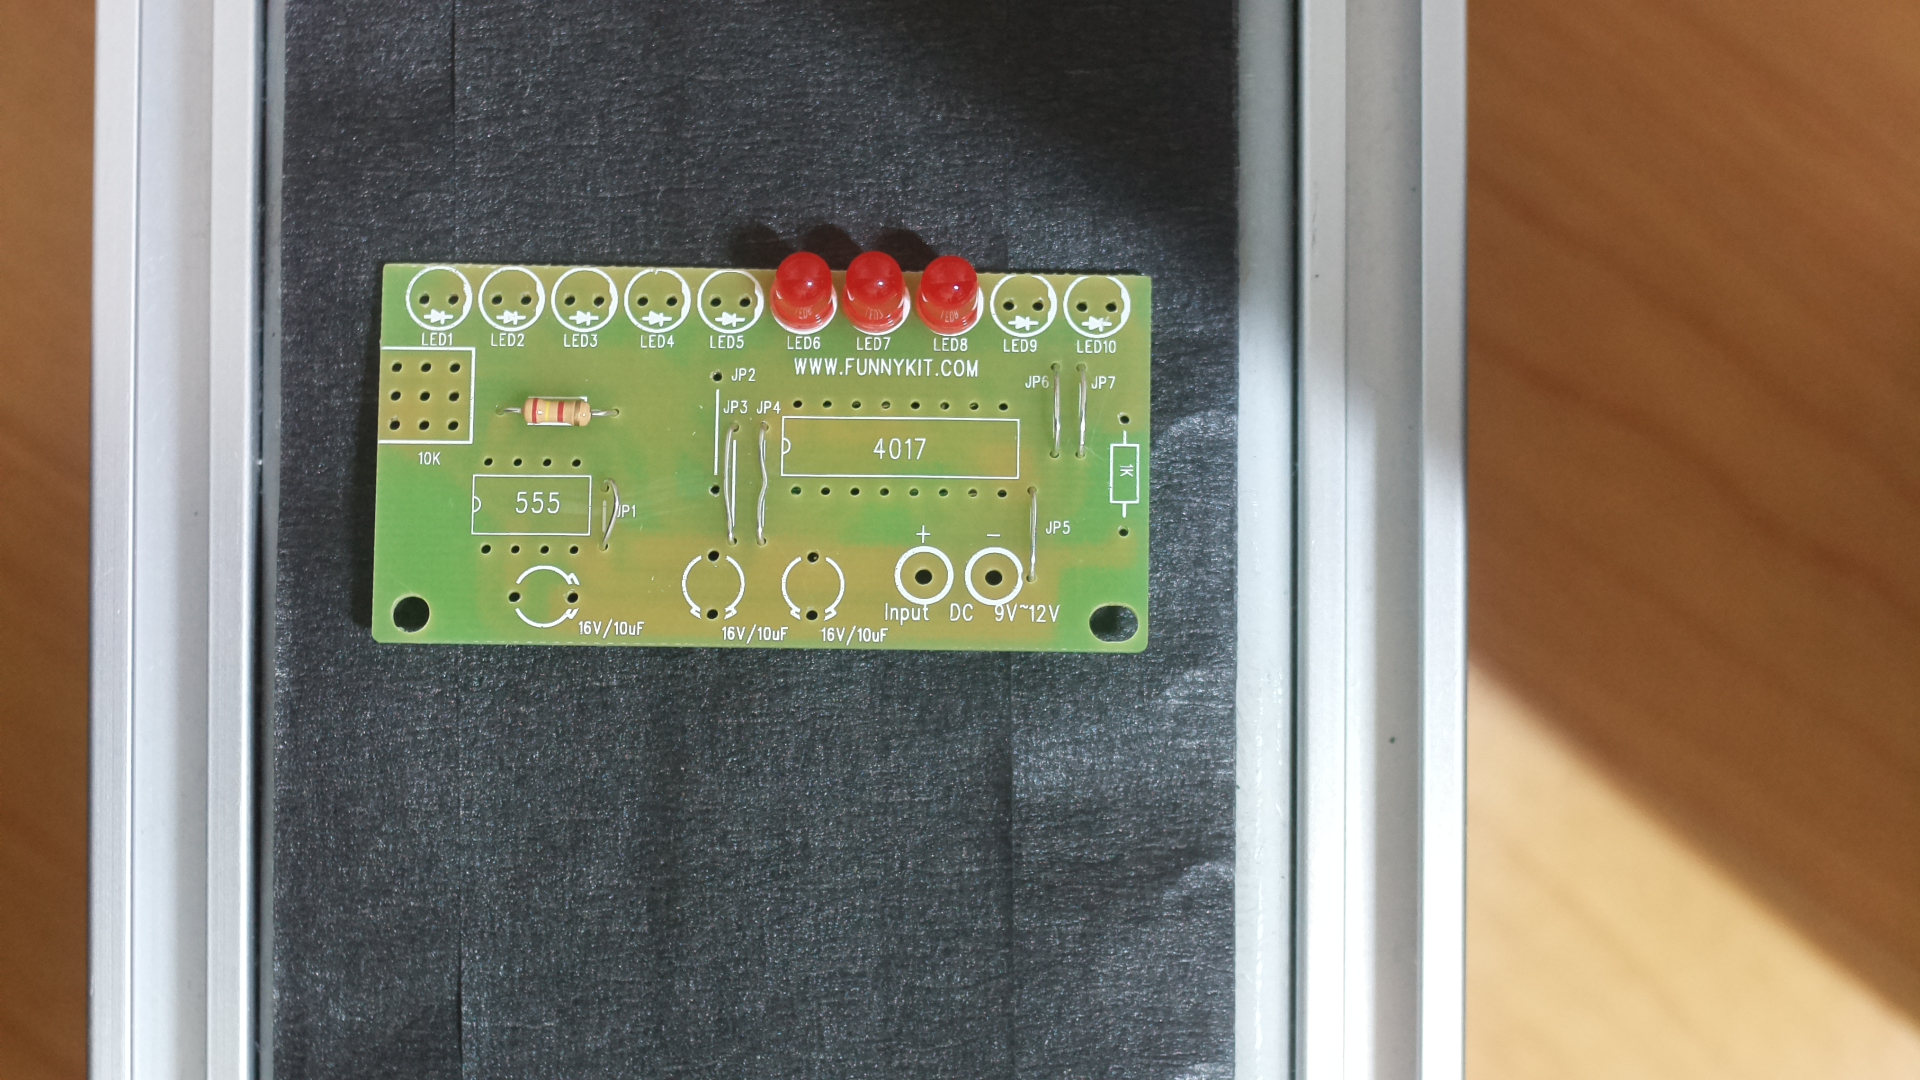B_Missing_part: (361, 237, 1171, 665)
